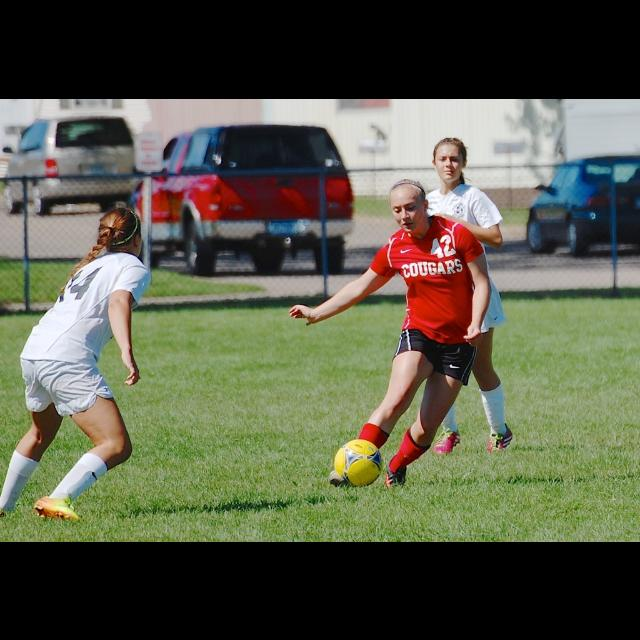Football: (332, 438, 386, 484)
